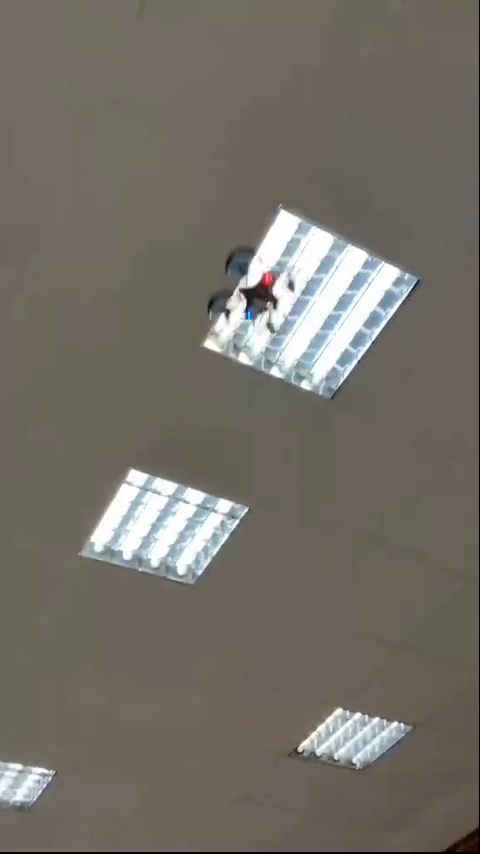drone: (217, 245, 303, 342)
